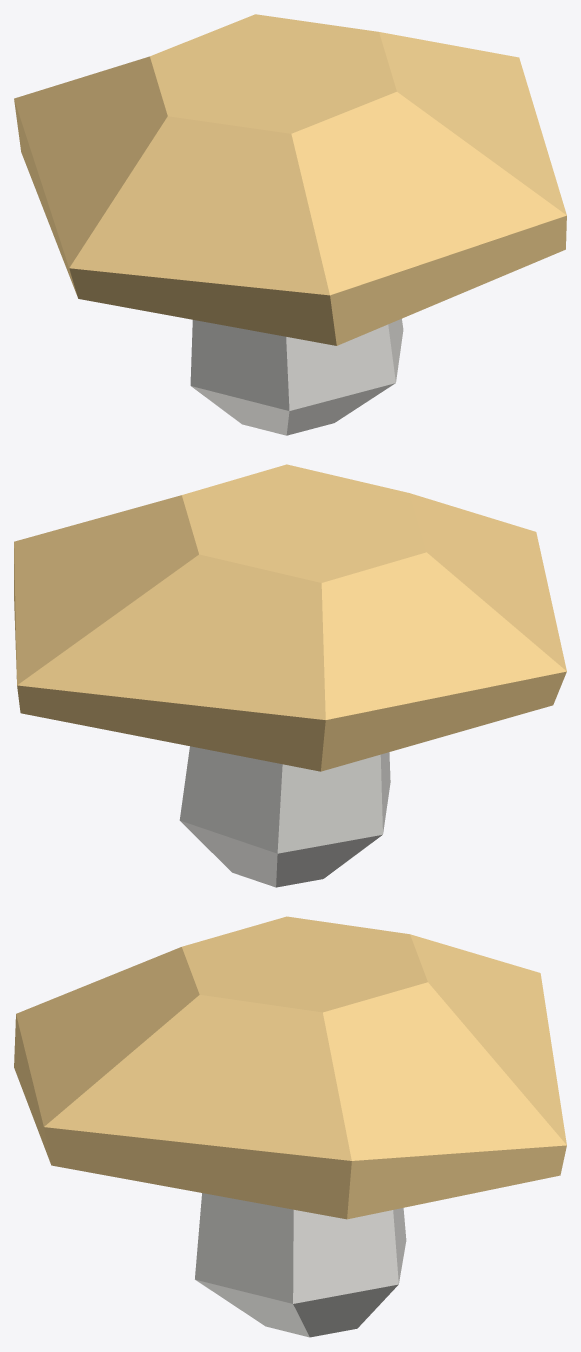
File: Plants_Pack_Mushroom_part_01.fbx
3 renders of one model, top to bottom at view 1: azimuth 30°, elevation 25°; view 2: azimuth 150°, elevation 25°; view 3: azimuth 270°, elevation 25°, orthographic.
Parts seen in each view (by area): view 1: Plants_Pack_Mushroom_part_01; view 2: Plants_Pack_Mushroom_part_01; view 3: Plants_Pack_Mushroom_part_01.
Boxes of the visible parts, x1=… form: Plants_Pack_Mushroom_part_01: x1=14, y1=14, x2=566, y2=435; Plants_Pack_Mushroom_part_01: x1=14, y1=464, x2=566, y2=887; Plants_Pack_Mushroom_part_01: x1=14, y1=916, x2=566, y2=1337.
Bounding box in the file's own units: 36.14 × 24.26 × 34.42.
